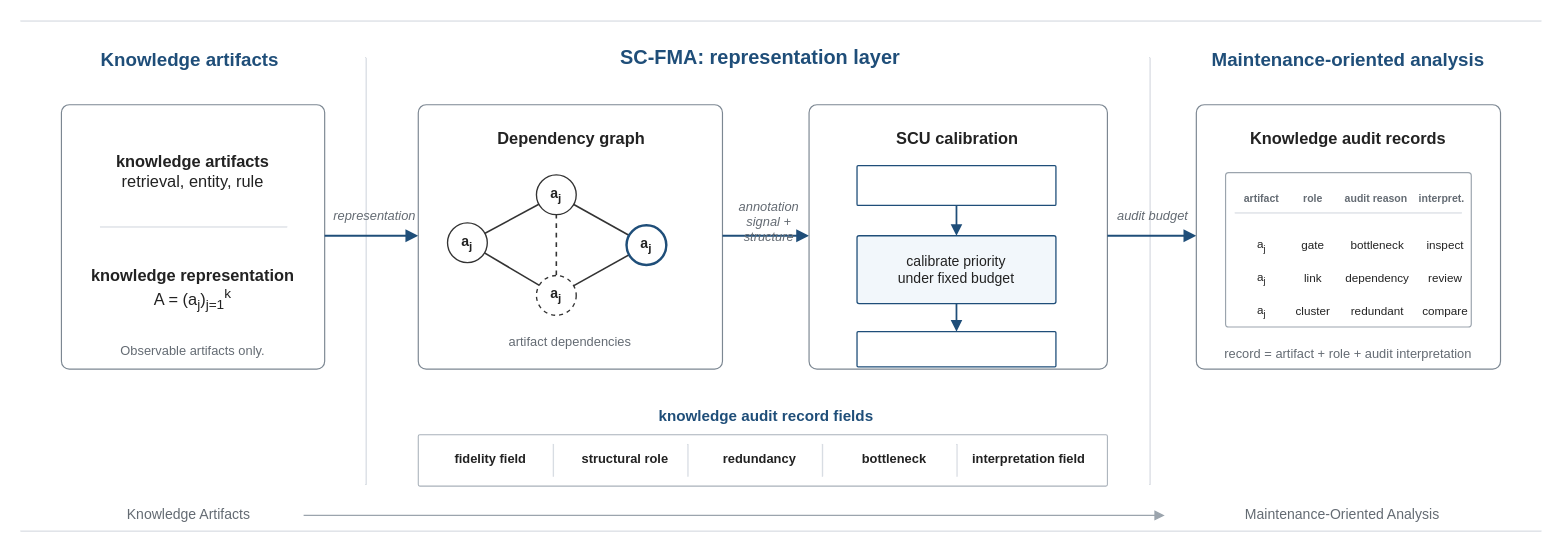
Some shapes in this 1562 by 552 pixel diagram are drawn without their labels. The box of each missing label's shape, as (x1, y1, x2, y2) in pixels:
artifact roles: (856, 164, 1056, 205)
audit record schema: (856, 331, 1056, 367)
